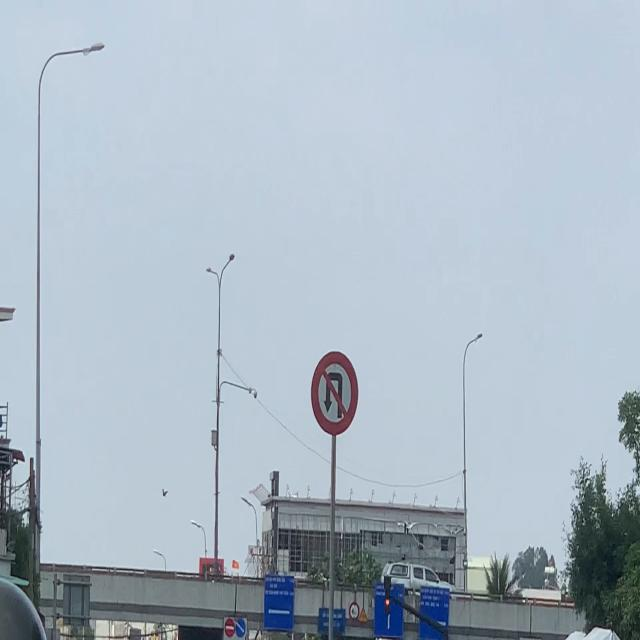Cam nguoc chieu: (224, 618, 235, 638)
Cam quay dau xe: (307, 344, 365, 443)
Chieu cao toi da: (348, 600, 360, 620)
Hieu lenh: (235, 618, 246, 638)
